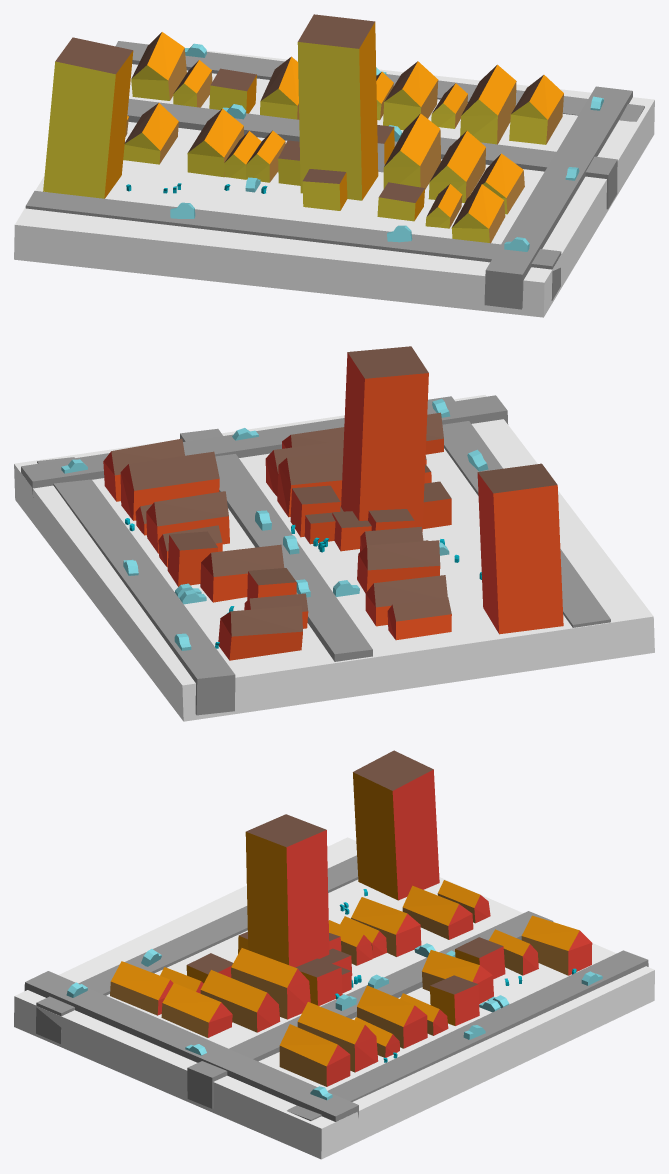
The model's file is city_block.glb.
3 renders of one model, top to bottom at view 1: azimuth 30°, elevation 25°; view 2: azimuth 150°, elevation 25°; view 3: azimuth 270°, elevation 25°, orthographic. The views are drawn at different scales.
Parts seen in each view (by area): view 1: group456778489, group81349141, group1307526704, group1165366211, group2008728843_daa229, group552058965, group1377515828, group1165366211_5cf25a, group2008728843_e46c99, group1165366211_e5f09e, group2008728843_f5a5ca, group1193617130_95d9e5 (+35 smaller); view 2: group456778489, group1377515828, group2008728843_f4177d, group1165366211_471eb4, group552058965, group1307526704, group81349141, group1165366211_2ba43b, group946901577_a9b7f0, group2008728843_c06088, group832911195, group1472227710_f476e3 (+25 smaller); view 3: group456778489, group1307526704, group1377515828, group1165366211_2ba43b, group81349141, group1165366211_5cf25a, group552058965, group2008728843_c06088, group2008728843_e46c99, group2008728843_f5a5ca, group946901577, group943361811_b902d2 (+29 smaller).
Boxes of the visible parts, left/top/right/bottom form: group456778489: left=14, top=42, right=654, bottom=317; group81349141: left=25, top=191, right=561, bottom=300; group1307526704: left=484, top=86, right=632, bottom=309; group1165366211: left=297, top=42, right=361, bottom=200; group2008728843_daa229: left=43, top=61, right=115, bottom=198; group552058965: left=127, top=98, right=617, bottom=209; group1377515828: left=115, top=41, right=644, bottom=121; group1165366211_5cf25a: left=359, top=22, right=378, bottom=200; group2008728843_e46c99: left=104, top=51, right=133, bottom=198; group1165366211_e5f09e: left=298, top=14, right=374, bottom=48; group2008728843_f5a5ca: left=55, top=37, right=132, bottom=74; group1193617130_95d9e5: left=509, top=101, right=547, bottom=144; group456778489: left=14, top=395, right=654, bottom=721; group1377515828: left=37, top=457, right=235, bottom=715; group2008728843_f4177d: left=493, top=485, right=563, bottom=634; group1165366211_471eb4: left=359, top=373, right=428, bottom=531; group552058965: left=180, top=428, right=372, bottom=661; group1307526704: left=21, top=395, right=508, bottom=497; group81349141: left=427, top=396, right=610, bottom=627; group1165366211_2ba43b: left=341, top=352, right=364, bottom=520; group946901577_a9b7f0: left=129, top=451, right=219, bottom=490; group2008728843_c06088: left=477, top=472, right=499, bottom=633; group832911195: left=230, top=605, right=302, bottom=636; group1472227710_f476e3: left=367, top=540, right=440, bottom=570; group456778489: left=14, top=837, right=654, bottom=1159; group1307526704: left=24, top=971, right=358, bottom=1121; group1377515828: left=287, top=950, right=648, bottom=1120; group1165366211_2ba43b: left=286, top=830, right=329, bottom=967; group81349141: left=36, top=855, right=358, bottom=1043; group1165366211_5cf25a: left=245, top=832, right=288, bottom=964; group552058965: left=187, top=911, right=553, bottom=1108; group2008728843_c06088: left=392, top=769, right=439, bottom=900; group2008728843_e46c99: left=353, top=772, right=398, bottom=900; group2008728843_f5a5ca: left=353, top=750, right=433, bottom=790; group946901577: left=298, top=1002, right=364, bottom=1044; group943361811_b902d2: left=200, top=970, right=266, bottom=1012.
Size of the model in its own units: 1.52 by 0.4638 by 1.49.
